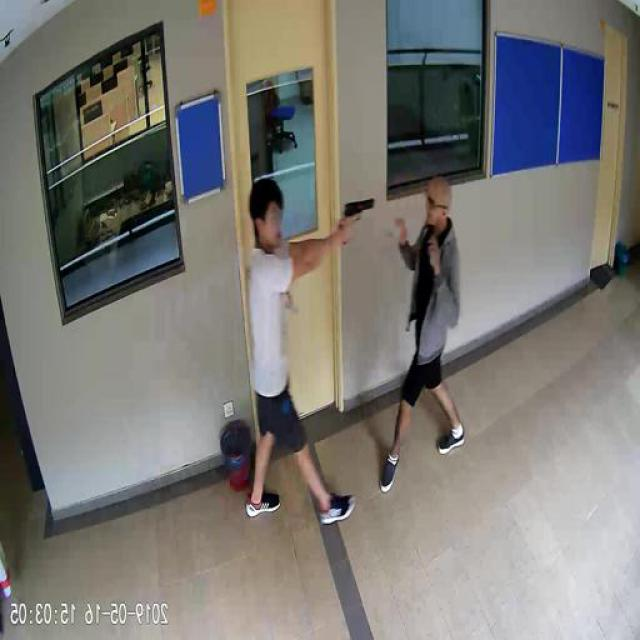Gun: (345, 196, 376, 236)
